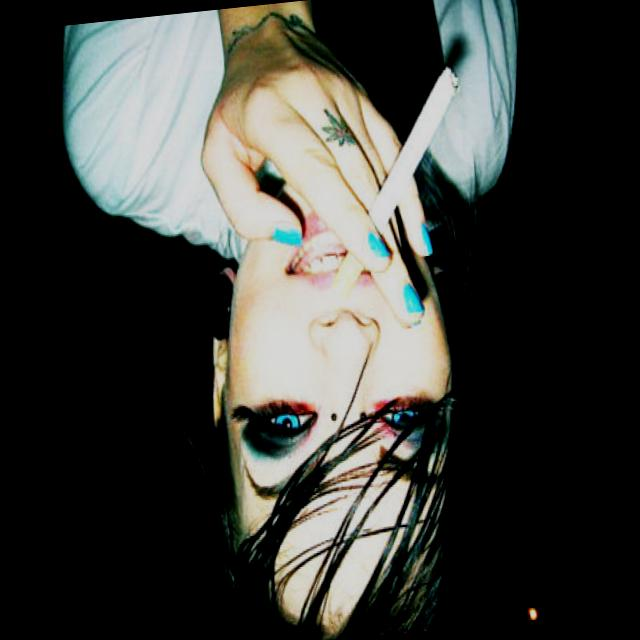smoke: (356, 66, 472, 212)
